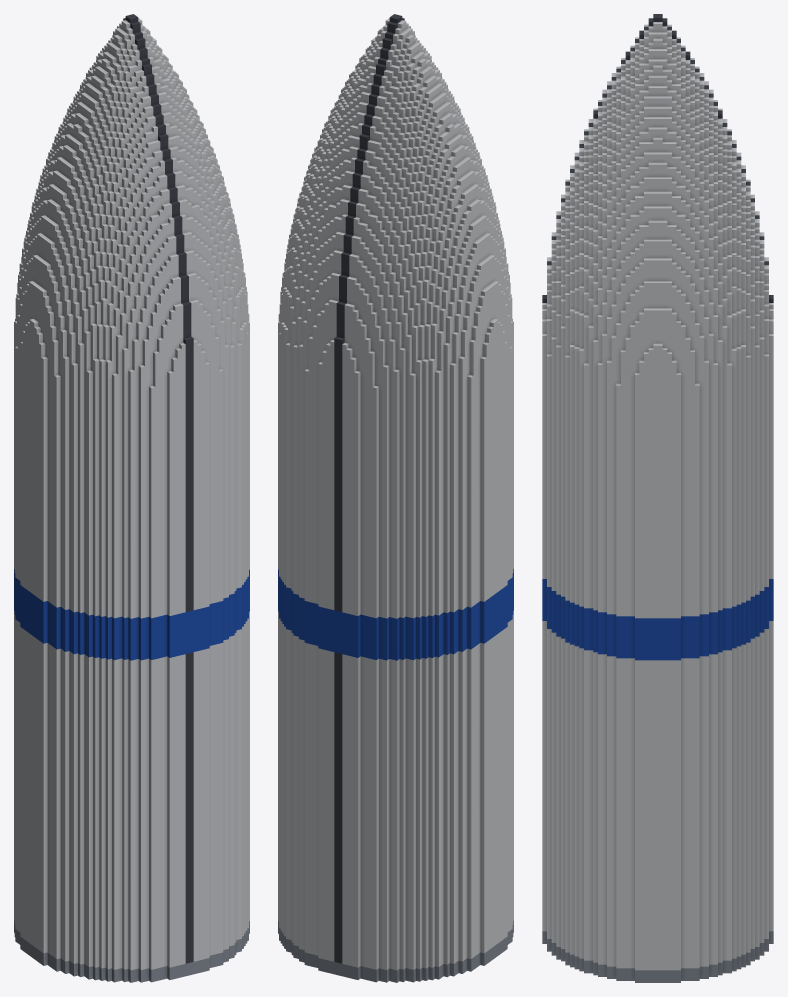
Rendered from fairing_m_long.glb.
3 views of the same model, side by side, from view 1: azimuth 30°, elevation 25°; view 2: azimuth 150°, elevation 25°; view 3: azimuth 270°, elevation 25° (orthographic).
Visible parts, largest first — view 1: fairing_m_long; view 2: fairing_m_long; view 3: fairing_m_long.
Boxes of the visible parts, x1,y1,x2,y2 form: fairing_m_long: [14, 14, 249, 982]; fairing_m_long: [278, 14, 513, 982]; fairing_m_long: [542, 14, 773, 982].
Size of the model in its own units: 2.5 by 10.95 by 2.5.
